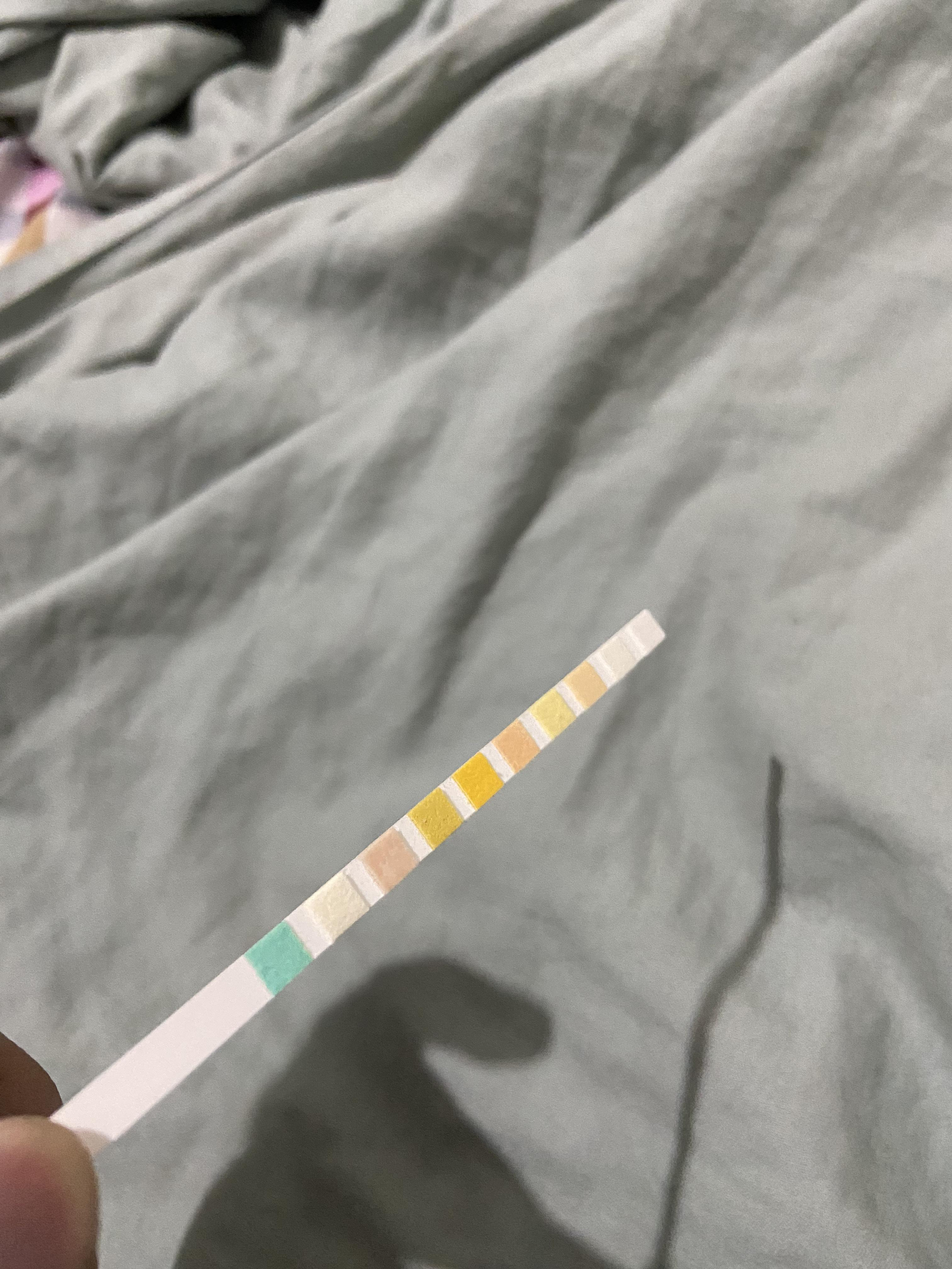Bilirubin: (319, 891, 355, 923)
Blood: (466, 767, 493, 793)
Glucose: (265, 940, 301, 976)
Ketone: (375, 845, 409, 876)
Leukocytes: (637, 621, 656, 640)
Nitrite: (609, 646, 628, 665)
Protein: (542, 700, 566, 725)
SpGravity: (421, 803, 455, 831)
Urobilinogen: (576, 673, 598, 695)
pH: (506, 732, 528, 759)
strip: (65, 610, 665, 1143)
